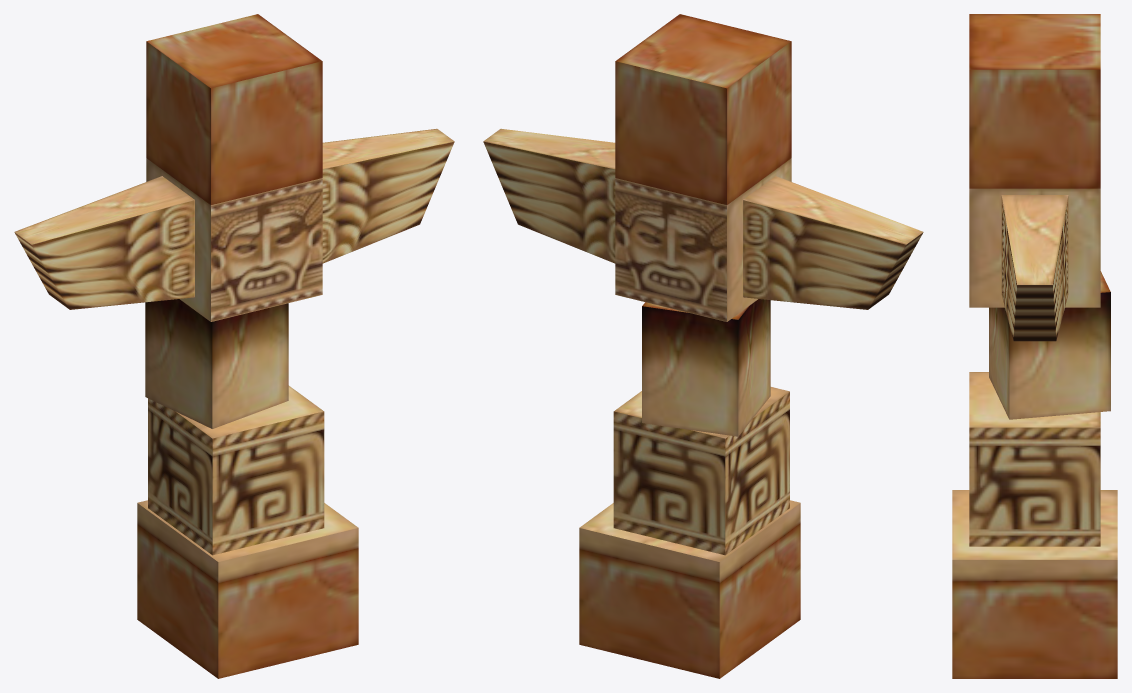
The model's file is Object_Totem1.FBX.
3 views of the same model, side by side, from view 1: azimuth 30°, elevation 25°; view 2: azimuth 150°, elevation 25°; view 3: azimuth 270°, elevation 25° (orthographic).
Parts seen in each view (by area): view 1: totem; view 2: totem; view 3: totem.
Part boxes in pixels (x1,y1,x2,y2): totem: (14,14,454,678); totem: (483,14,923,678); totem: (952,14,1117,678).
Size of the model in its own units: 89.77 by 118 by 29.8.
